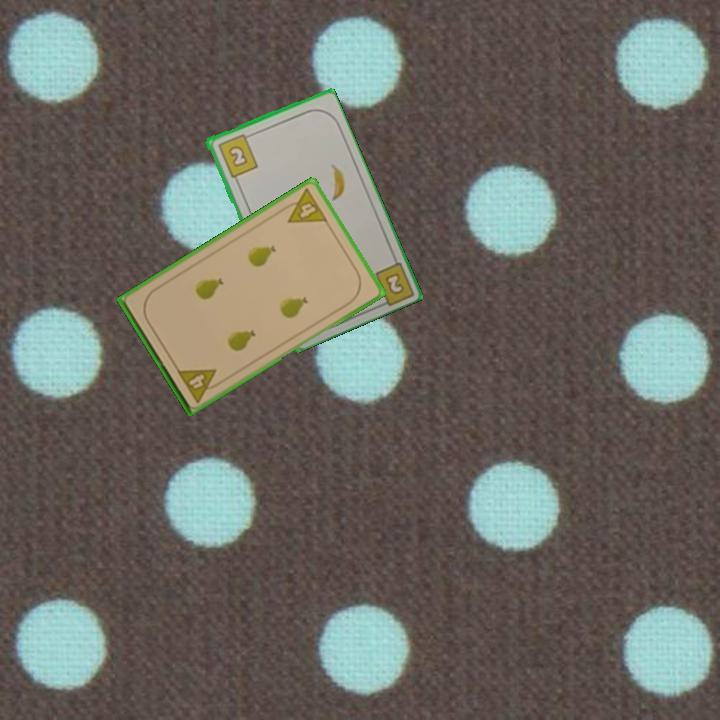2b: (214, 130, 260, 180), (381, 269, 407, 297)
4p: (277, 185, 330, 226), (173, 365, 225, 405)
